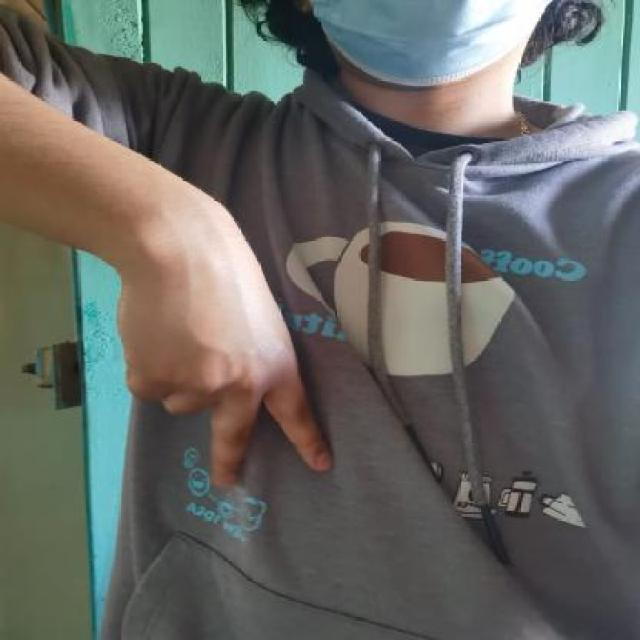N: (121, 245, 374, 513)
